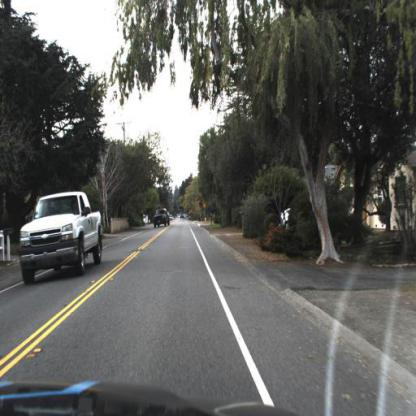car: (19, 188, 103, 285), (149, 202, 174, 232)
